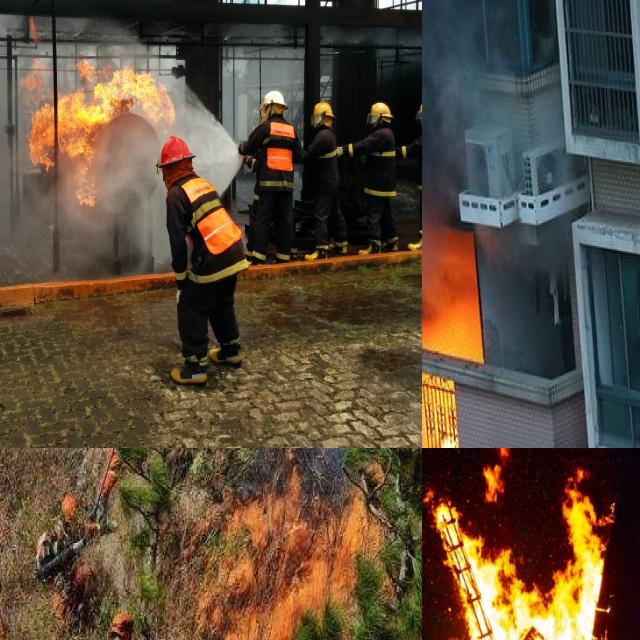fire: (171, 457, 395, 640), (422, 448, 618, 640), (14, 46, 176, 204), (422, 221, 488, 448)
smoke: (422, 0, 500, 214)
